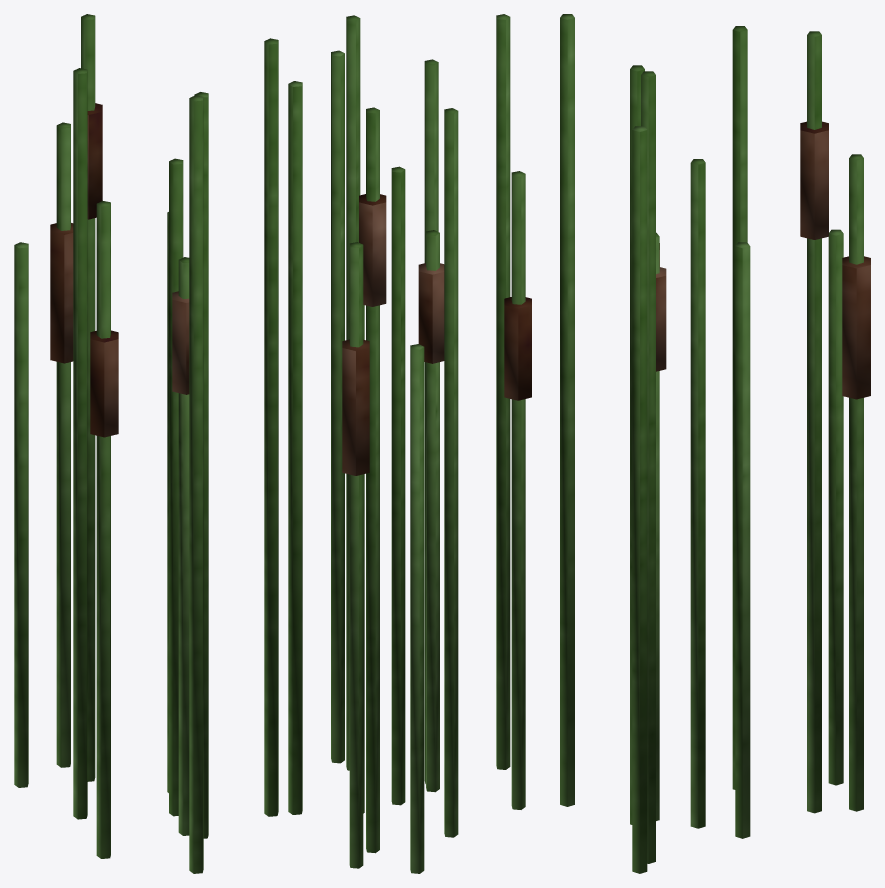
Rendered from reeds_2.glb.
3 renders of one model, left to right at view 1: azimuth 30°, elevation 25°; view 2: azimuth 150°, elevation 25°; view 3: azimuth 270°, elevation 25°, orthographic. The views are drawn at different scales.
Visible parts, largest first — view 1: reeds_2; view 2: reeds_2; view 3: reeds_2.
Part boxes in pixels (left/top/right/bottom): reeds_2: left=14, top=14, right=302, bottom=873; reeds_2: left=331, top=14, right=531, bottom=873; reeds_2: left=560, top=14, right=870, bottom=873.
Size of the model in its own units: 0.5649 by 1.99 by 0.7124.
2 materials, 2 textured.
